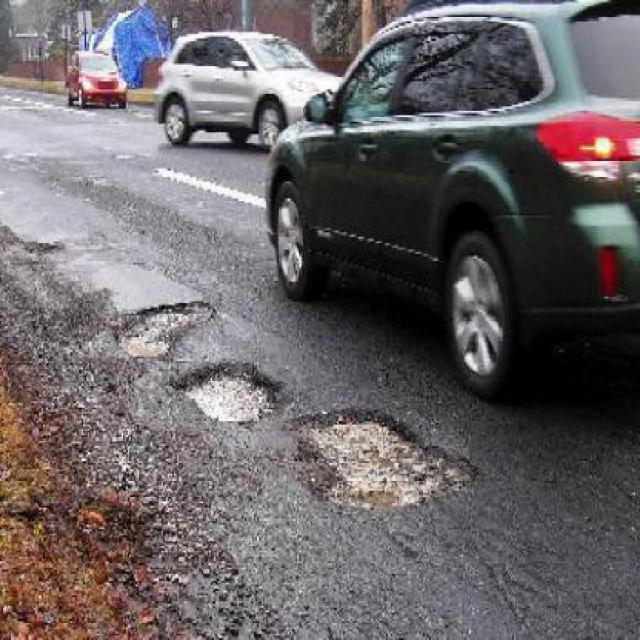pothole: (286, 401, 479, 517), (174, 356, 288, 427), (112, 295, 218, 361)
